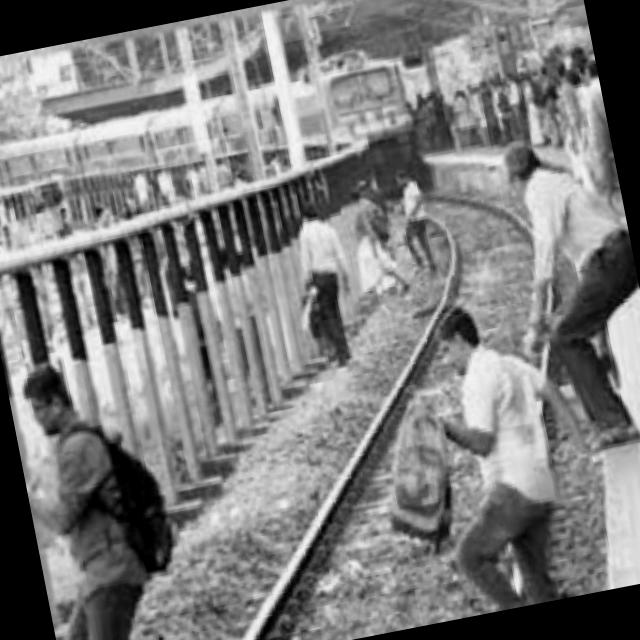Person: (418, 292, 594, 613), (10, 343, 191, 640), (287, 196, 368, 375), (344, 176, 414, 304), (392, 166, 443, 278)
